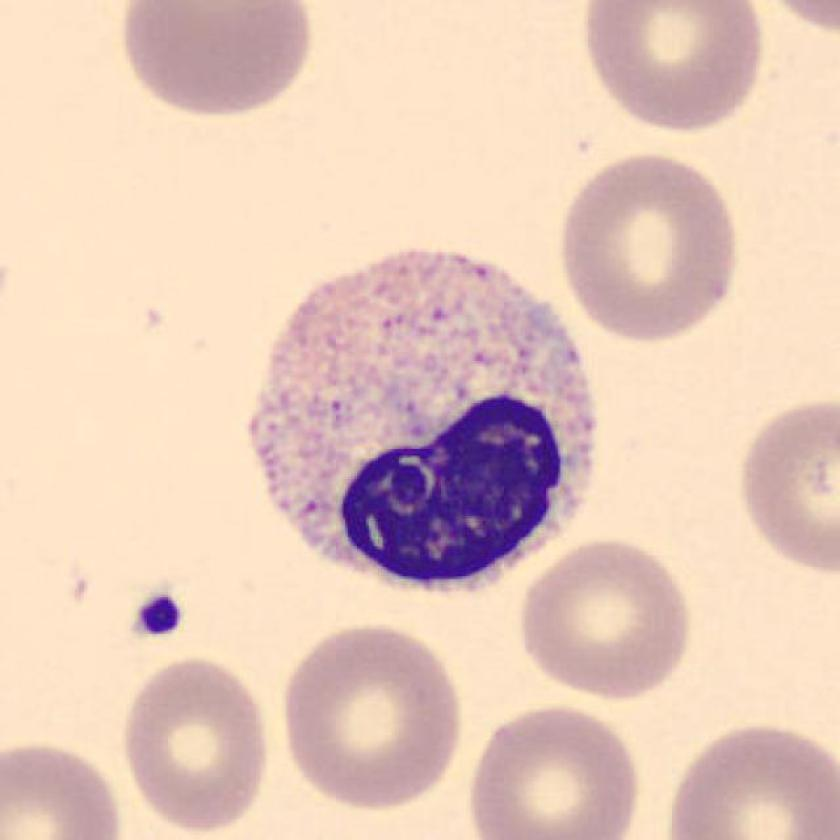neutrophil: (256, 250, 597, 593)
